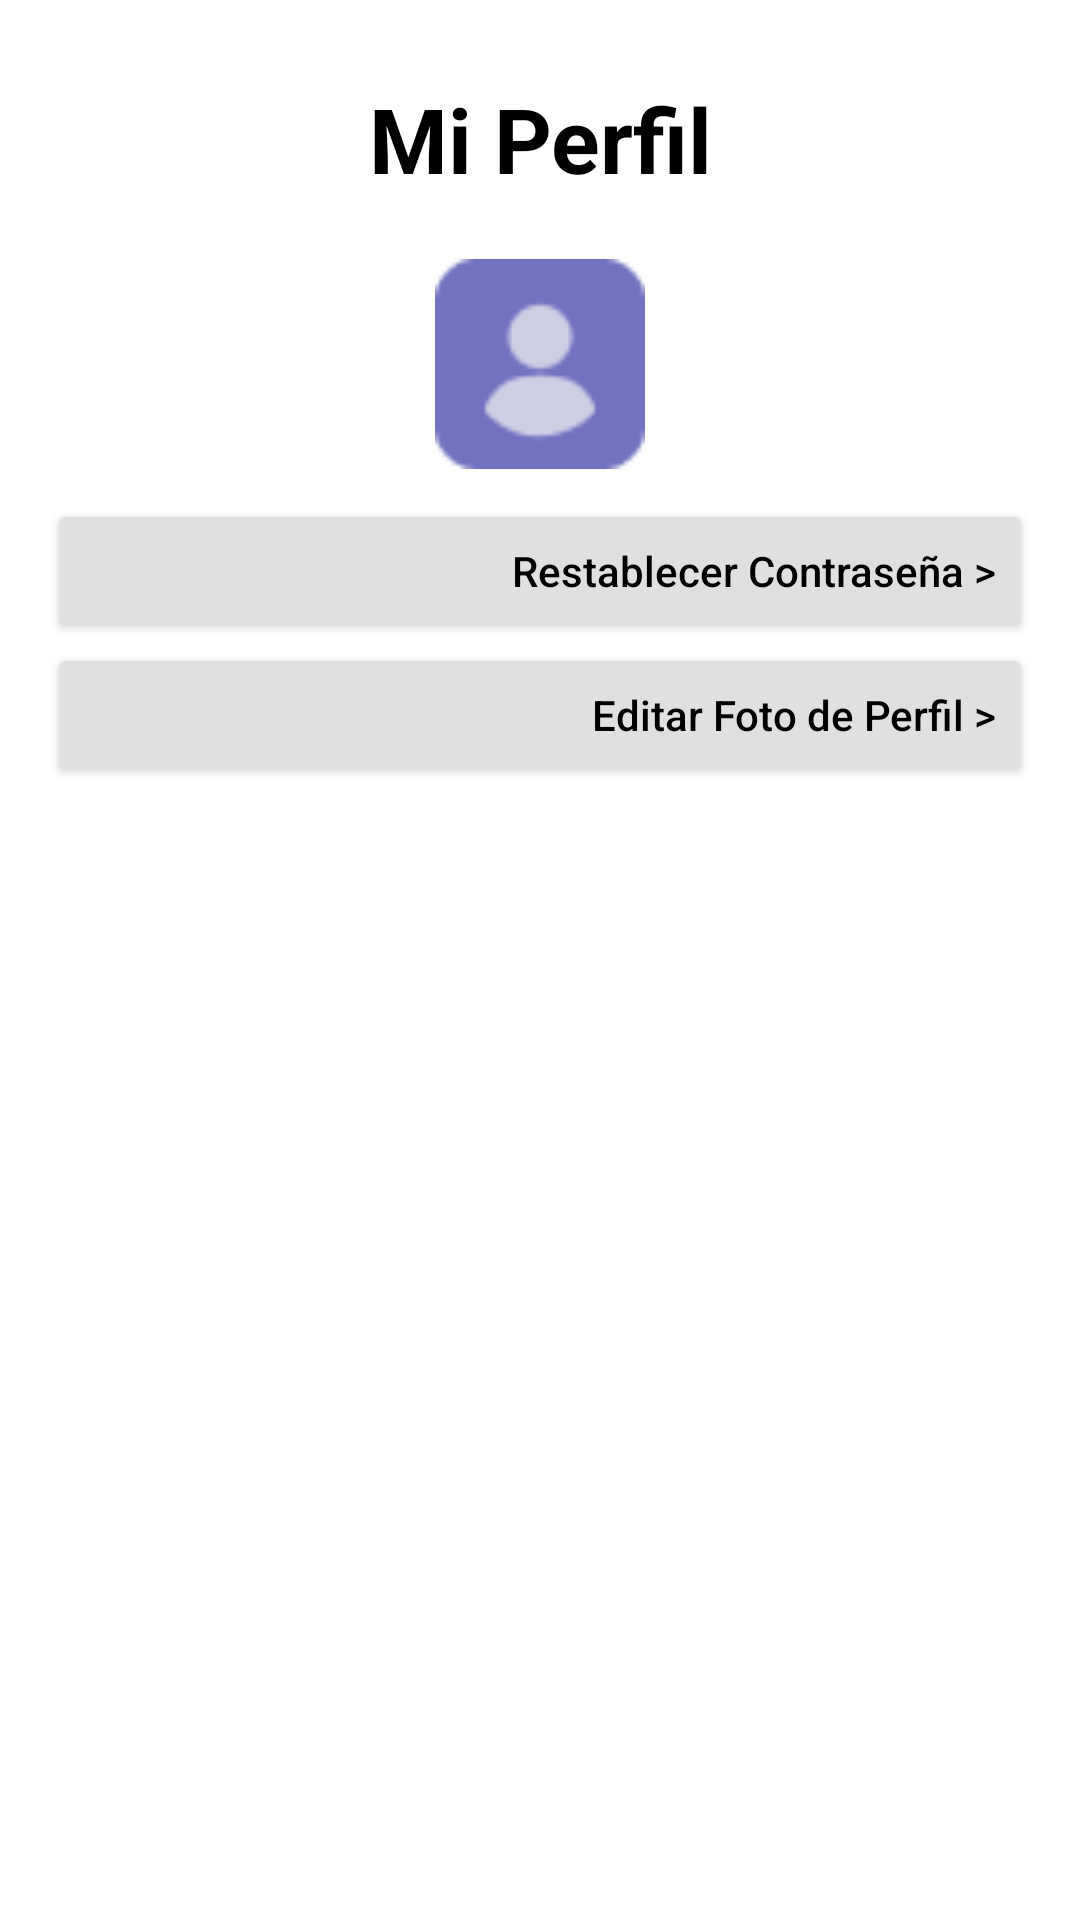

Where to tap for icons on this 1080px×1920px app screen, as point (x, y):
usuario: point (540, 364)
